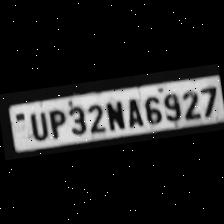2: (178, 87, 202, 121), (84, 101, 106, 134)
3: (64, 102, 87, 136)
6: (140, 93, 162, 126)
7: (196, 84, 220, 119)
9: (160, 90, 182, 124)
A: (122, 96, 144, 128)
N: (102, 97, 125, 132)
P: (44, 106, 68, 140)
U: (24, 108, 50, 142)
